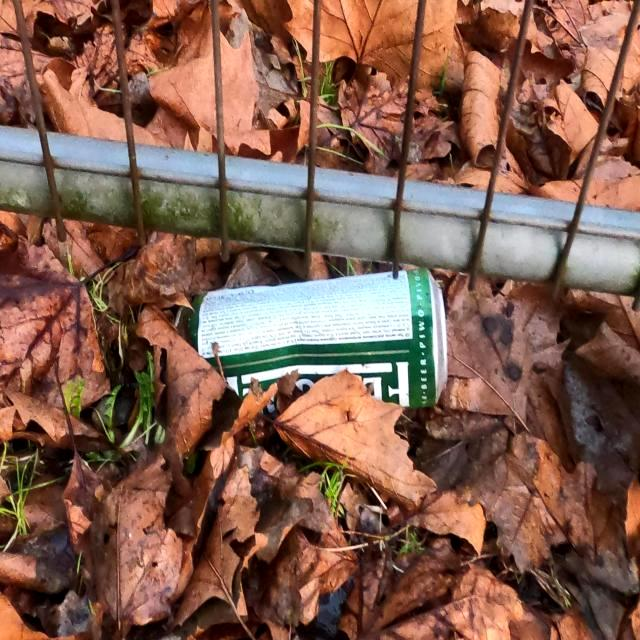Metal: (185, 264, 451, 411)
